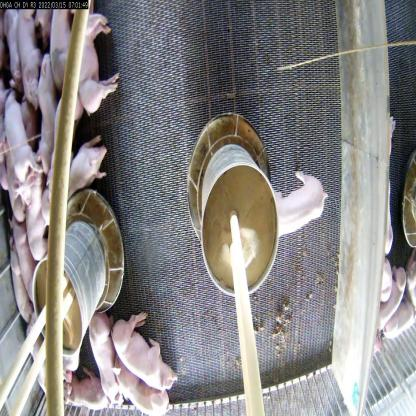Pig: (264, 154, 328, 251), (69, 14, 119, 118), (119, 314, 176, 398), (112, 349, 176, 415), (84, 298, 120, 415), (38, 44, 66, 171), (63, 128, 107, 204), (0, 105, 29, 209), (24, 168, 53, 260), (37, 6, 68, 84), (62, 368, 104, 415)
